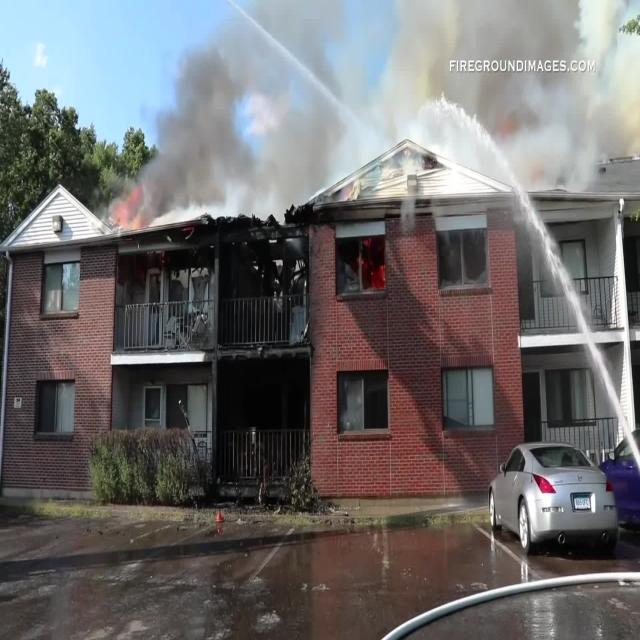Smoke: (103, 0, 347, 230), (368, 0, 640, 181)
